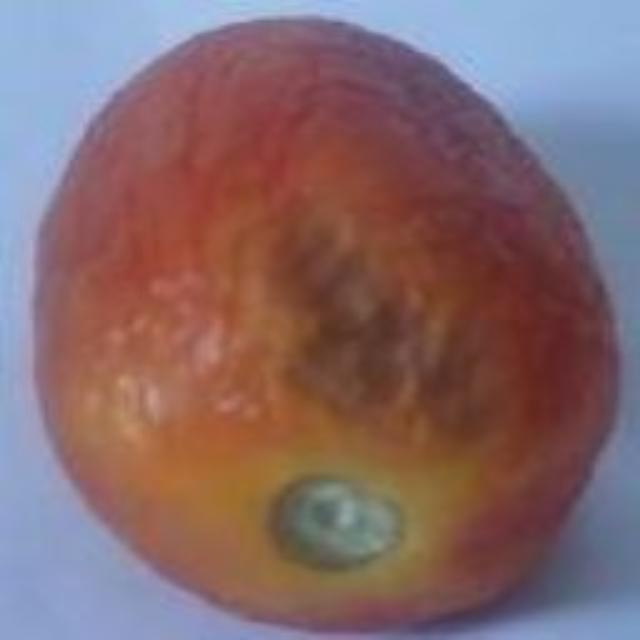defect: (27, 13, 623, 640)
